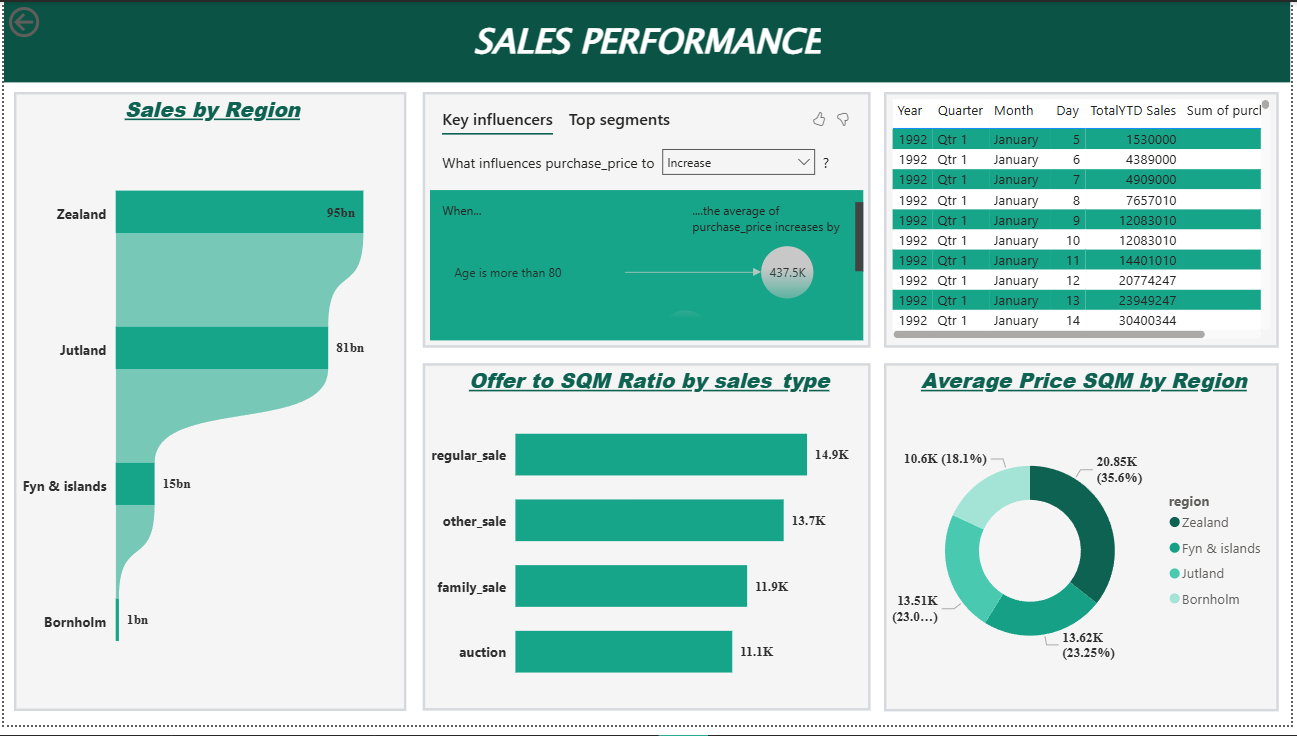

Layout of this report page (visuals, bound fields, positions):
{"tool":"powerbi","page":{"name":"SALES PERFORMANCE","canvas":[1280,720],"ordinal":1},"visuals":[{"type":"shape","box":[0,0,1280.3,80],"z":0},{"type":"barChart","title":"Sales by Region","fields":{"Y":["Measure Table 1.Sales by Region"],"Category":["Housing.region"]},"box":[10,90,390,615.7],"z":1000},{"type":"keyDriversVisual","fields":{"Target":["Housing.purchase_price"],"ExplainBy":["Housing.Age"]},"box":[417.1,90,445.7,254.3],"z":2000},{"type":"barChart","title":"Offer to SQM Ratio by sales_type","fields":{"Category":["Housing.sales_type"],"Y":["Measure Table 1.Offer to SQM Ration"]},"box":[417.1,360,445.7,345.7],"z":3000},{"type":"tableEx","fields":{"Values":["Housing.date.Variation.Date Hierarchy.Year","Housing.date.Variation.Date Hierarchy.Quarter","Housing.date.Variation.Date Hierarchy.Month","Housing.date.Variation.Date Hierarchy.Day","Measure Table 1.TotalYTD Sales","Sum(Housing.purchase_price)"]},"box":[875.7,90,392.9,254.3],"z":4000},{"type":"actionButton","box":[0,0,100,40],"z":5000},{"type":"donutChart","title":"Average Price SQM by Region","fields":{"Category":["Housing.region"],"Y":["Measure Table 1.Average Price SQM"]},"box":[876,360,393,346],"z":6000}]}

Visuals, with their boxes in screenshot pixels (x1, y1, x2, y2), scaled from the page's 1280x720 canvas onto the 1297x736 screenshot:
shape: crop(0, 0, 1296, 82)
"Sales by Region" barChart: crop(10, 92, 405, 721)
keyDriversVisual - Housing.purchase_price x Housing.Age: crop(423, 92, 874, 352)
"Offer to SQM Ratio by sales_type" barChart: crop(423, 368, 874, 721)
tableEx - Housing.date.Variation.Date Hierarchy.Year x Housing.date.Variation.Date Hierarchy.Quarter: crop(887, 92, 1285, 352)
actionButton: crop(0, 0, 101, 41)
"Average Price SQM by Region" donutChart: crop(888, 368, 1286, 722)
